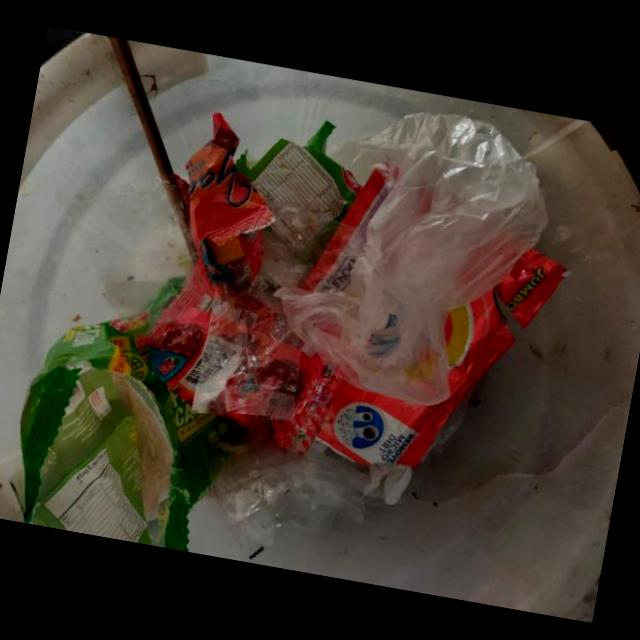bao_bi_thuc_pham: (21, 276, 229, 552), (139, 265, 340, 451), (234, 121, 362, 268), (175, 112, 274, 296)
goi_nhua_nho: (315, 248, 571, 467)
tui_ni_long: (277, 117, 548, 403)
